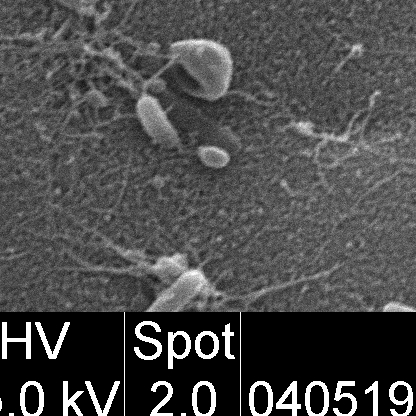cell2cell: (141, 55, 178, 98)
cell2surface: (205, 262, 336, 296)
regular: (137, 99, 191, 156), (153, 271, 200, 310), (28, 0, 87, 10), (386, 303, 416, 310)
spheroplast: (171, 42, 232, 99)
